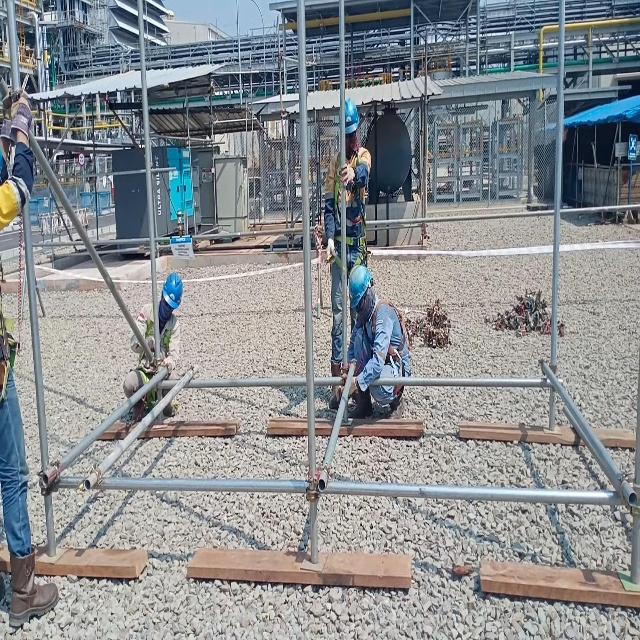Arnes_seguridad: (330, 143, 371, 276), (369, 292, 411, 400), (138, 301, 174, 410)
